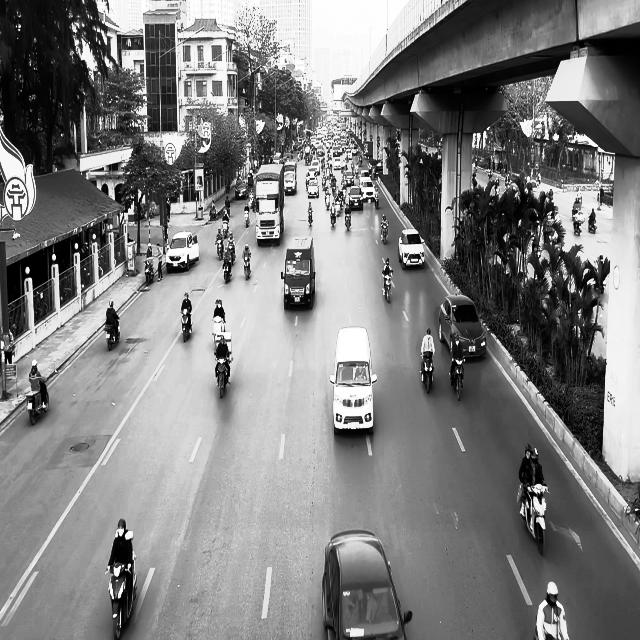bus: (253, 163, 284, 246)
car: (322, 528, 412, 640), (329, 326, 377, 435), (438, 294, 486, 360), (280, 236, 316, 310), (166, 231, 199, 273), (398, 228, 425, 269)
motorbike: (106, 552, 137, 639), (517, 481, 549, 556), (26, 368, 59, 426), (214, 351, 231, 398), (450, 356, 465, 401), (420, 352, 434, 394), (105, 316, 120, 351), (181, 309, 192, 342), (382, 270, 393, 302), (144, 257, 154, 285), (222, 255, 232, 283), (572, 212, 582, 235), (243, 253, 251, 280), (344, 208, 352, 230), (381, 222, 388, 244), (588, 214, 596, 233), (244, 208, 249, 228)
